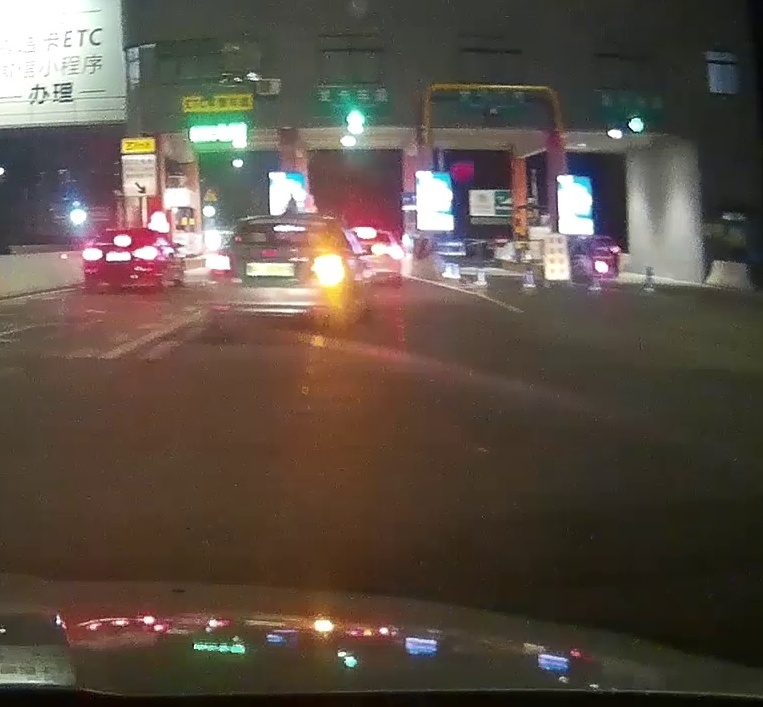L_light: (207, 254, 234, 277), (83, 248, 103, 261)
R_light: (311, 256, 345, 279), (133, 246, 158, 260)
T_light: (112, 235, 132, 245), (275, 217, 298, 223)
night-brake: (82, 228, 162, 295)
night-right: (203, 215, 348, 335)
